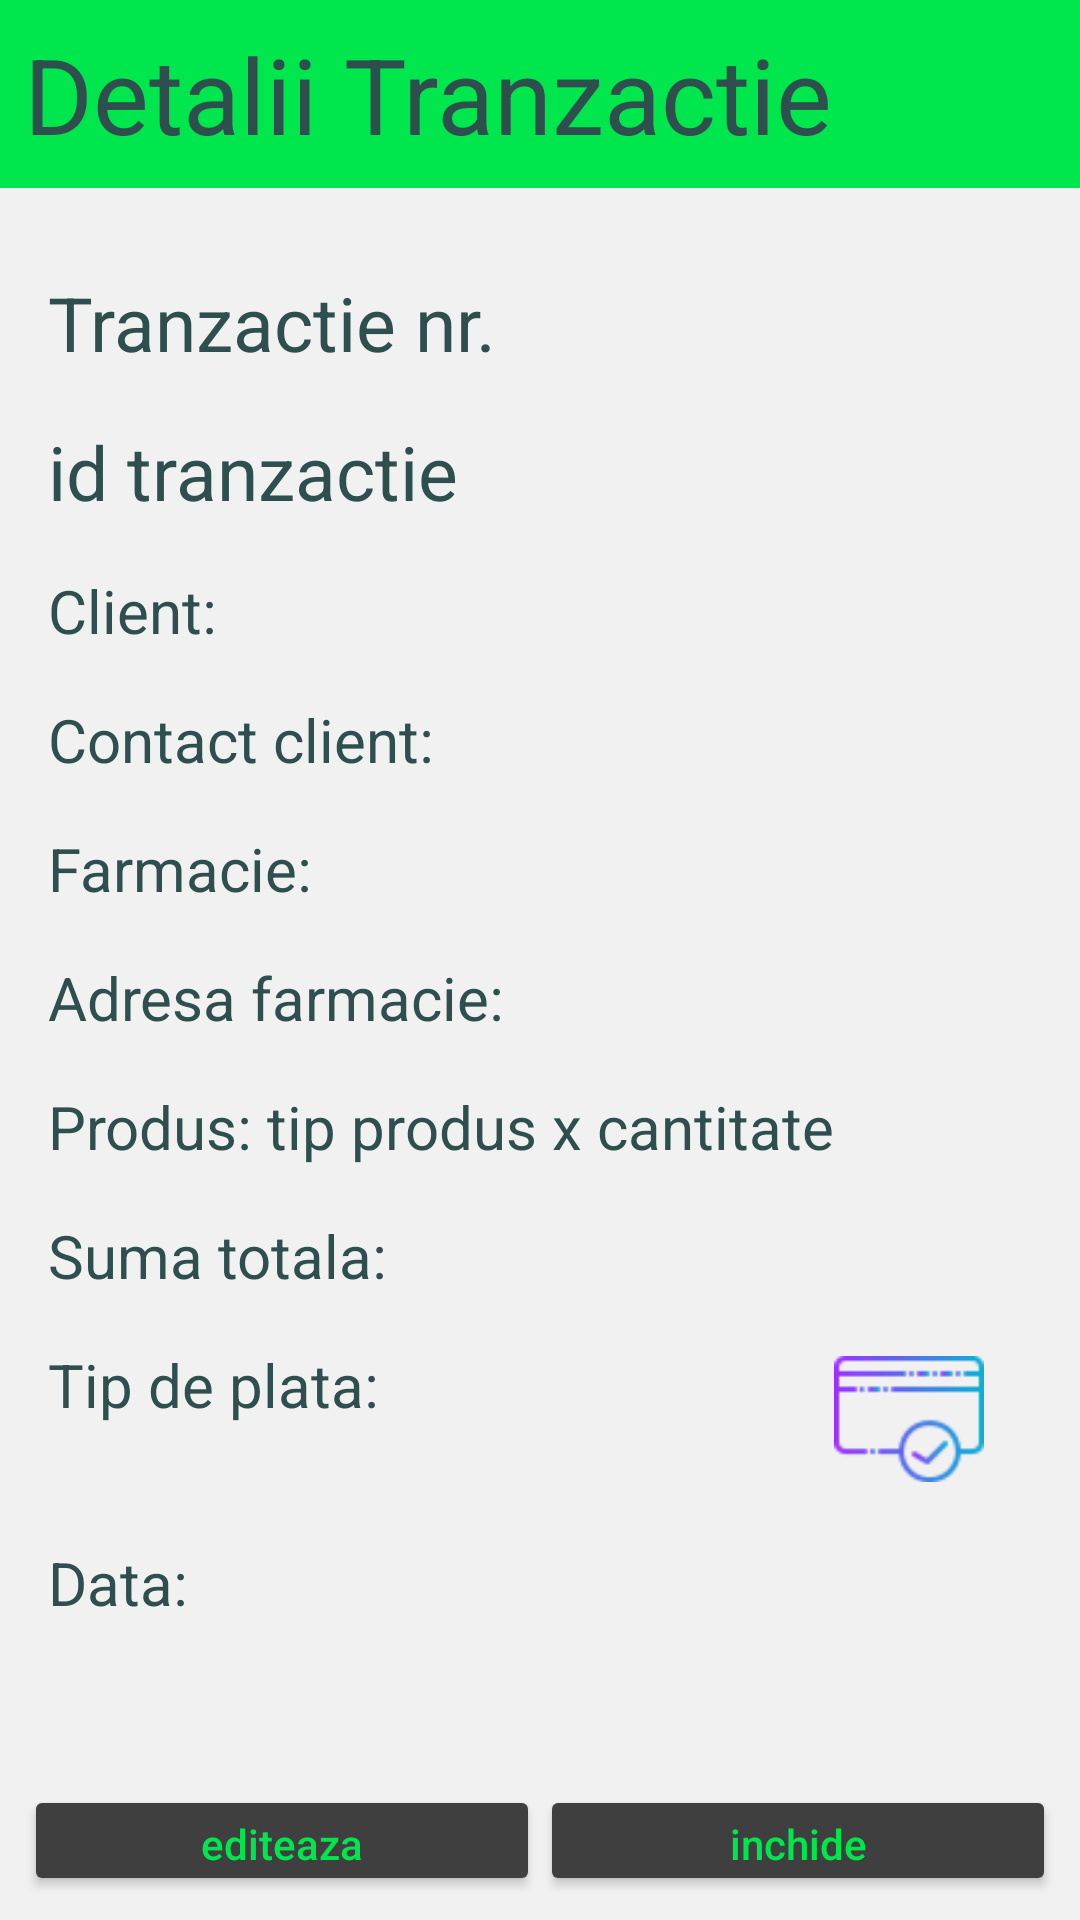

Named icons in this screenshot (1080*1920) and their bounding boxes, bbox=(x1, y1, x2, y2):
card: bbox=(834, 1356, 984, 1482)
